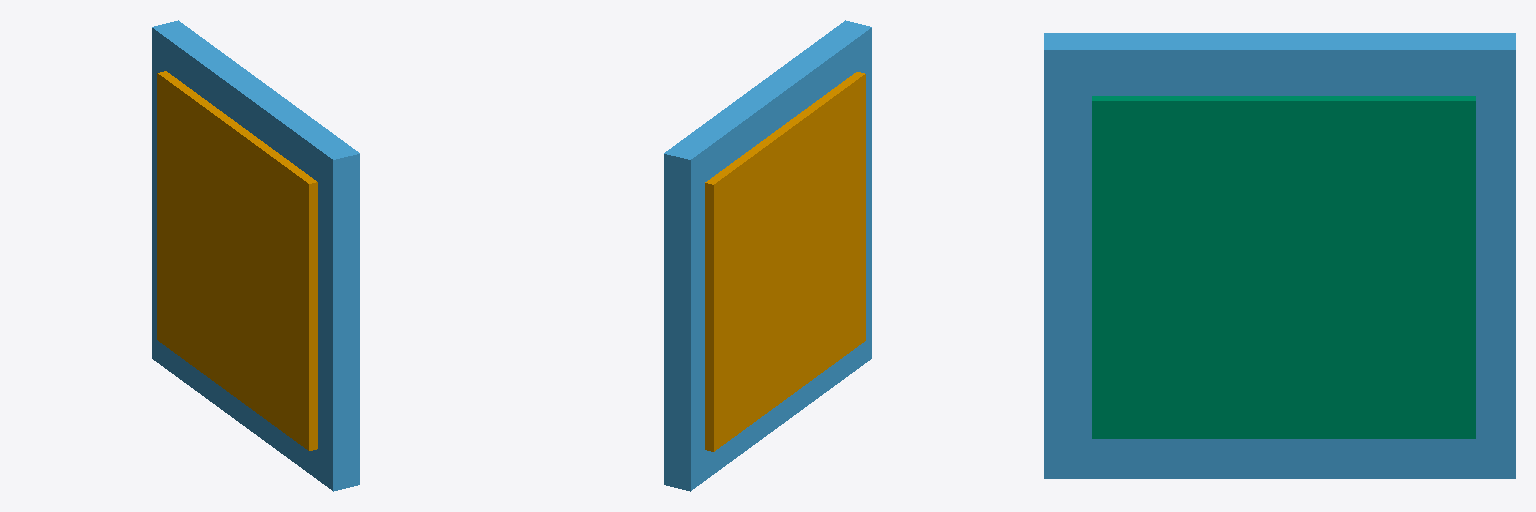
robot.urdf — aruco_wood:
<?xml version="1.0" ?>
<robot name="aruco_wood">
  <joint name="aruco_wood__link_1_JOINT_0_0" type="fixed">
    <parent link="aruco_wood__link_1"/>
    <child link="aruco_wood__link_1_clone_0"/>
    <origin rpy="0 0 0" xyz="-0.00403  0.66526  0.19524"/>
    <axis xyz="0 0 0"/>
    <limit effort="0" lower="0" upper="0" velocity="0"/>
  </joint>
  <joint name="aruco_wood__link_1_JOINT_0" type="fixed">
    <parent link="aruco_wood__link_1"/>
    <child link="aruco_wood__link_1_clone"/>
    <origin rpy="0 0 0" xyz="-0.0152   0.66318  0.19526"/>
    <axis xyz="0 0 0"/>
    <limit effort="0" lower="0" upper="0" velocity="0"/>
  </joint>
  <link name="aruco_wood__link_1">
    <inertial>
      <mass value="1.21407"/>
      <origin rpy="0 0 0" xyz="0 0 0"/>
      <inertia ixx="0.00864359" ixy="0" ixz="0" iyy="0.00421539" iyz="0" izz="0.00446773"/>
    </inertial>
    <collision name="aruco_wood__collision">
      <origin rpy="0 0 0" xyz="-0.02589  0.66382  0.19437"/>
      <geometry>
        <box size="0.013978 0.209676 0.203642"/>
      </geometry>
    </collision>
    <visual name="aruco_wood__visual">
      <origin rpy="0 0 0" xyz="-0.02589  0.66382  0.19437"/>
      <geometry>
        <box size="0.013978 0.209676 0.203642"/>
      </geometry>
    </visual>
  </link>
  <link name="aruco_wood__link_1_clone">
    <inertial>
      <mass value="0.519809"/>
      <origin rpy="0 0 0" xyz="0 0 0"/>
      <inertia ixx="0.00549167" ixy="0" ixz="0" iyy="0.00278045" iyz="0" izz="0.00275135"/>
    </inertial>
    <collision name="aruco_wood__collision">
      <origin rpy="0 0 0" xyz="0 0 0"/>
      <geometry>
        <box size="0.021523 0.251103 0.252437"/>
      </geometry>
    </collision>
    <visual name="aruco_wood__visual">
      <origin rpy="0 0 0" xyz="0 0 0"/>
      <geometry>
        <box size="0.021523 0.251103 0.252437"/>
      </geometry>
    </visual>
  </link>
  <link name="aruco_wood__link_1_clone_0">
    <inertial>
      <mass value="0.238009"/>
      <origin rpy="0 0 0" xyz="0 0 0"/>
      <inertia ixx="0.00161175" ixy="0" ixz="0" iyy="0.000787067" iyz="0" izz="0.000832042"/>
    </inertial>
    <collision name="aruco_wood__collision">
      <origin rpy="0 0 0" xyz="0 0 0"/>
      <geometry>
        <box size="0.013624 0.204363 0.198738"/>
      </geometry>
    </collision>
    <visual name="aruco_wood__visual">
      <origin rpy="0 0 0" xyz="0 0 0"/>
      <geometry>
        <box size="0.013624 0.204363 0.198738"/>
      </geometry>
    </visual>
  </link>
</robot>

--- Render facts (derived) ---
The picture shows the robot from 3 angles, left to right: view 1: azimuth 30°, elevation 25°; view 2: azimuth 150°, elevation 25°; view 3: azimuth 270°, elevation 25°; orthographic projection.
Model aruco_wood with 3 links and 2 joints (2 fixed), rooted at aruco_wood__link_1, posed every joint at zero.
Visible links, largest first — view 1: aruco_wood__link_1, aruco_wood__link_1_clone; view 2: aruco_wood__link_1, aruco_wood__link_1_clone; view 3: aruco_wood__link_1_clone_0, aruco_wood__link_1_clone.
Link boxes in pixels (x1,y1,x2,y2): aruco_wood__link_1: (157,71,317,450); aruco_wood__link_1_clone: (152,20,359,491); aruco_wood__link_1: (705,72,865,451); aruco_wood__link_1_clone: (664,20,871,491); aruco_wood__link_1_clone_0: (1092,96,1475,438); aruco_wood__link_1_clone: (1044,33,1515,478).
Bounding box of the posed robot: 0.0357 × 0.2511 × 0.2524 m (x, y, z).
Geometry: primitives only (box / cylinder / sphere), no mesh files.